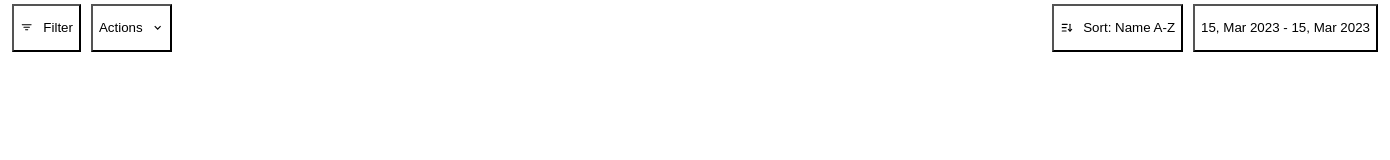
it: renders filter controls › render action menu
Click the button with test id "actions-menu-button": (132, 28) 91,4 -> 172,52
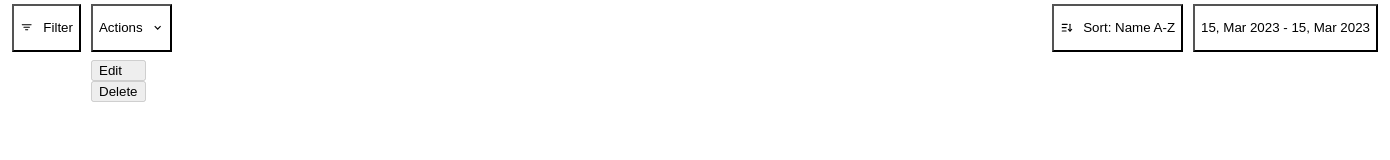
Expected: the menu item with test id "actions-save-menu-item" is shown, 91,60 -> 146,81
Expected: the menu item with test id "actions-delete-menu-item" is shown, 91,81 -> 146,102
